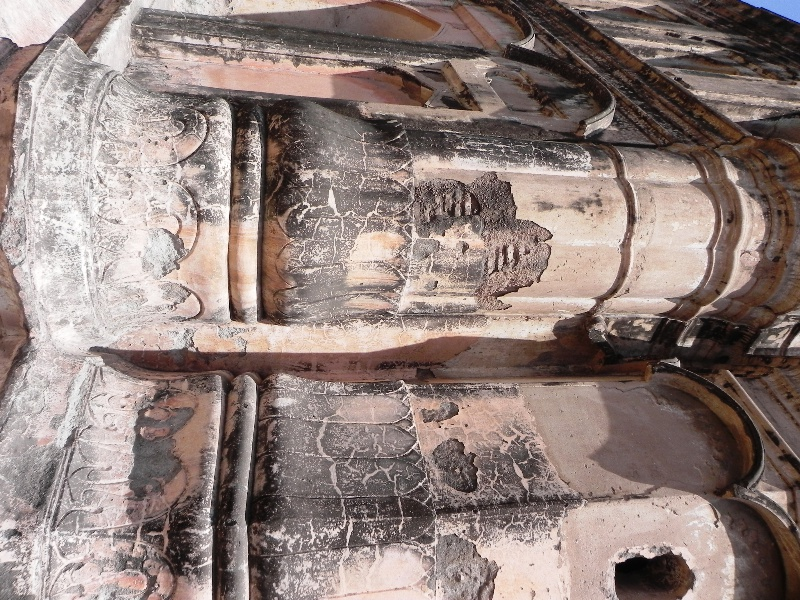Exposed Bricks: (419, 187, 477, 218), (489, 243, 527, 270)
Spalling: (435, 528, 495, 600), (424, 434, 486, 501)
